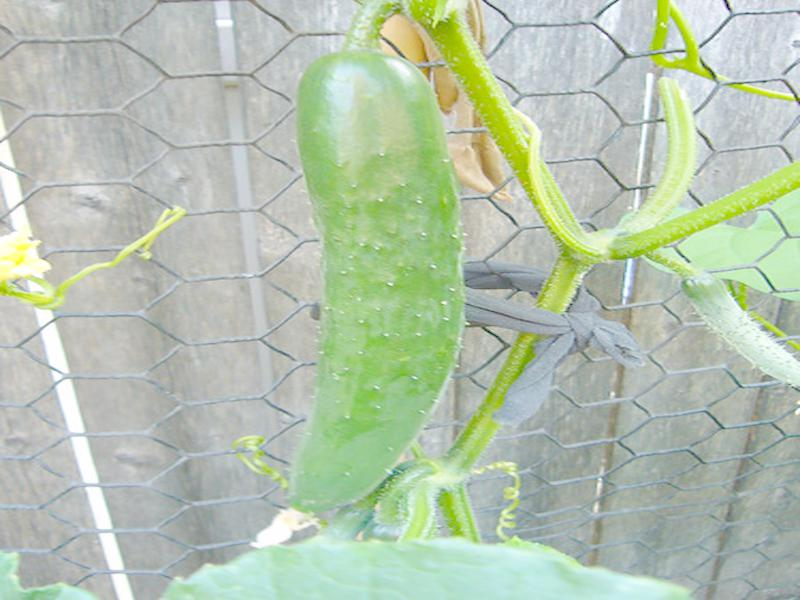Cucumber: (286, 50, 467, 510)
